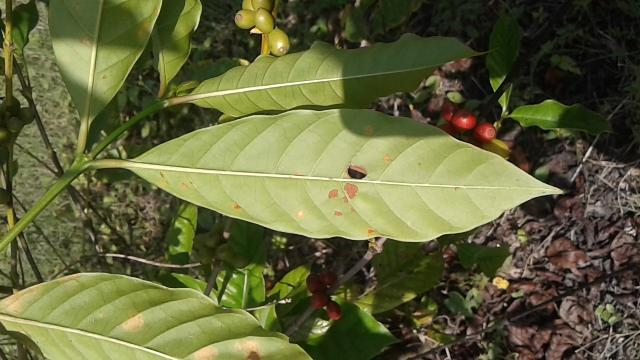red_spider_mite: (119, 107, 574, 243)
